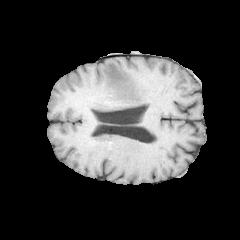glioma: (100, 62, 148, 110)
